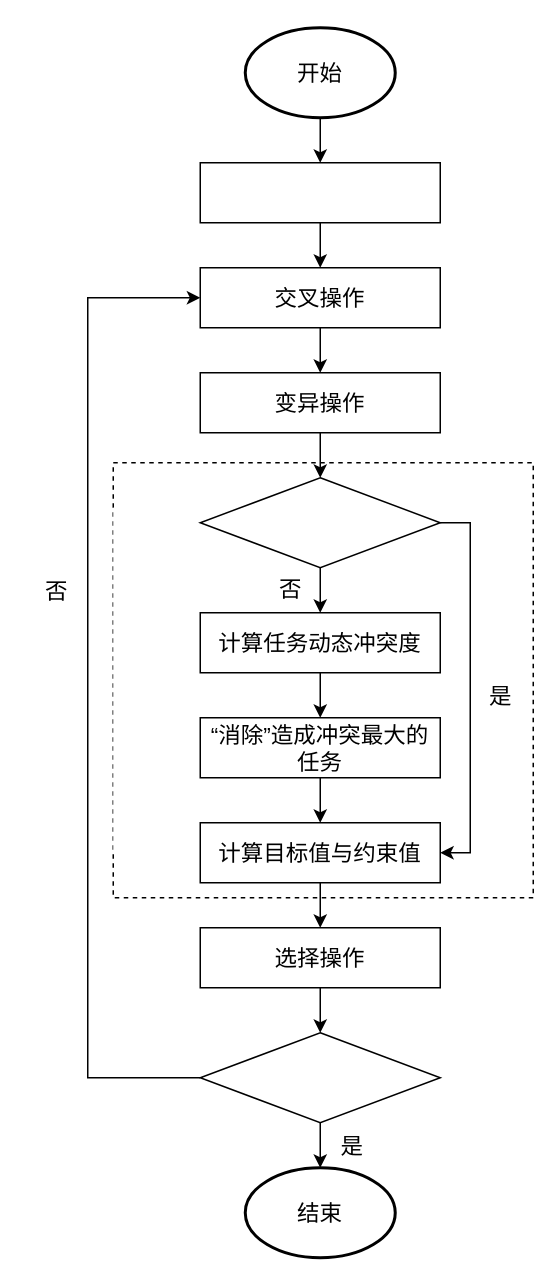
Some shapes in this 560 by 1284 pixel diagram are drawn without their labels. The shapes that lost their labels are listed below. From the top down, each one's centre as x and y in pixels, then its label:
At (x=319, y=192): "采用混合编码方式初始化种群并引入优秀个体".
At (x=319, y=522): "是否为可行解".
At (x=135, y=679): "冲突消解策略".
At (x=319, y=1077): "是否满足终止条件".
